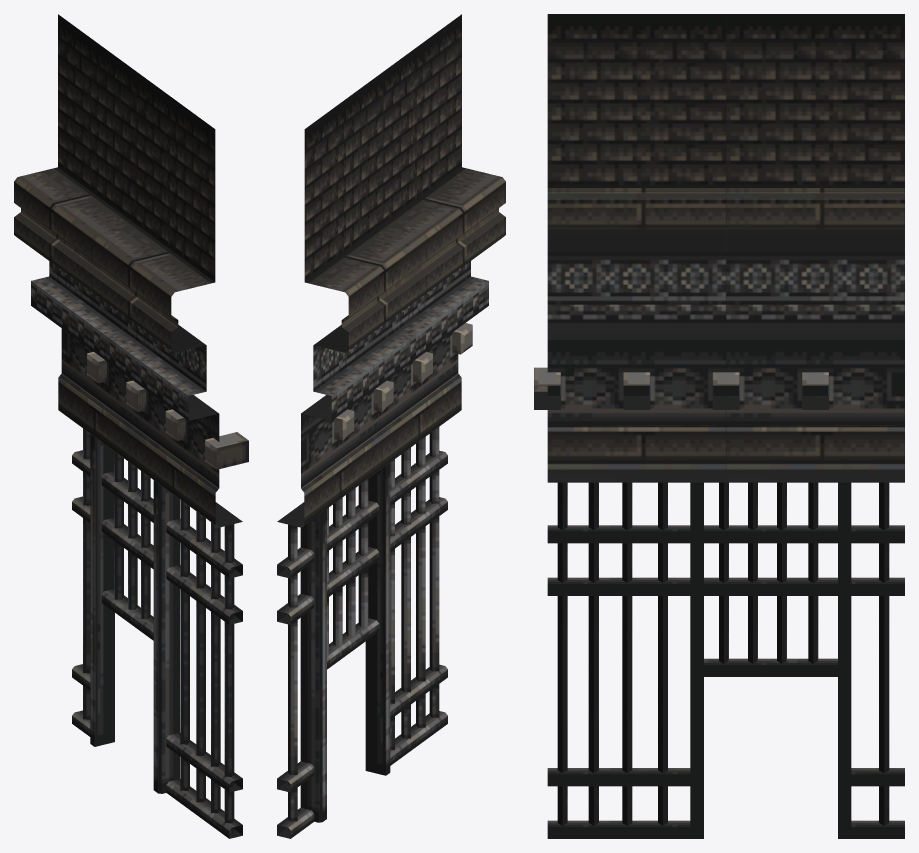
The model's file is EnvMdrMD_Castle_A_Wall_B_Door_B.FBX.
3 renders of one model, left to right at view 1: azimuth 30°, elevation 25°; view 2: azimuth 150°, elevation 25°; view 3: azimuth 270°, elevation 25°, orthographic. The views are drawn at different scales.
Parts seen in each view (by area): view 1: EnvMdrMD_Castle_A_Wall_B_Door_B; view 2: EnvMdrMD_Castle_A_Wall_B_Door_B; view 3: EnvMdrMD_Castle_A_Wall_B_Door_B.
Part boxes in pixels (box(x1,y1,x2,y2)): EnvMdrMD_Castle_A_Wall_B_Door_B: box(14, 14, 248, 838); EnvMdrMD_Castle_A_Wall_B_Door_B: box(277, 14, 505, 838); EnvMdrMD_Castle_A_Wall_B_Door_B: box(534, 14, 904, 838).
Size of the model in its own units: 105 by 1000 by 415.
Materials: 1 (1 with a texture image).
